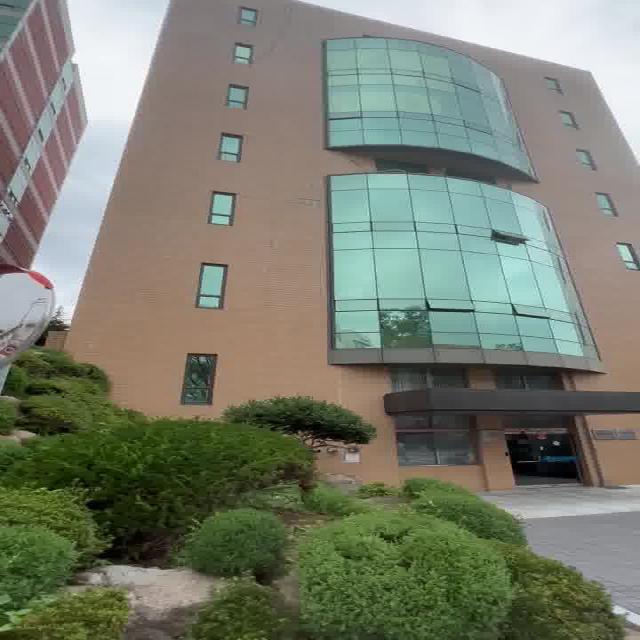building: (101, 20, 640, 404)
